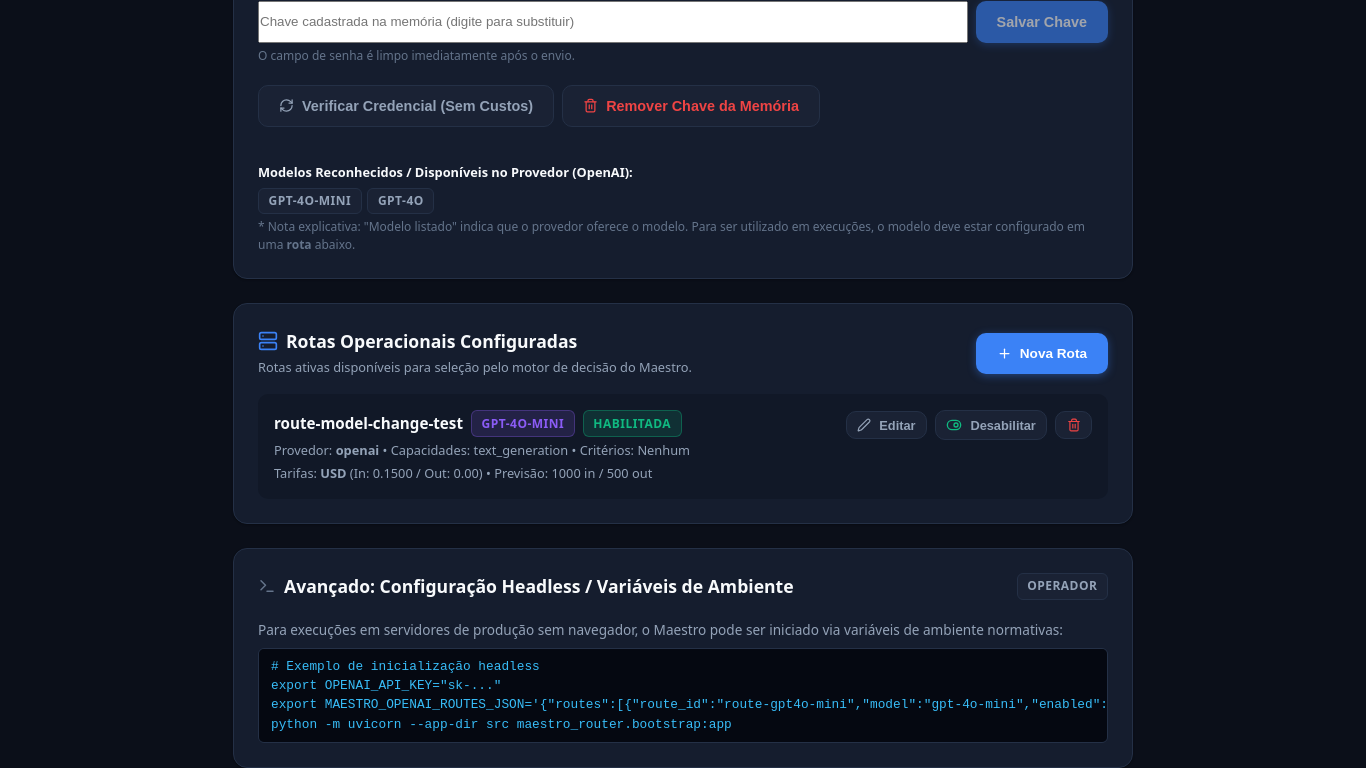
Test: ProvidersView component › ao trocar o modelo de uma rota, desmarca a confirmação de identidade exata do modelo anterior (R1)
(page scrolled)
Step 1. Click the button with test id "edit-route-route-model-change-test" → [886, 425], box top-left (846, 411), bottom-right (927, 439)
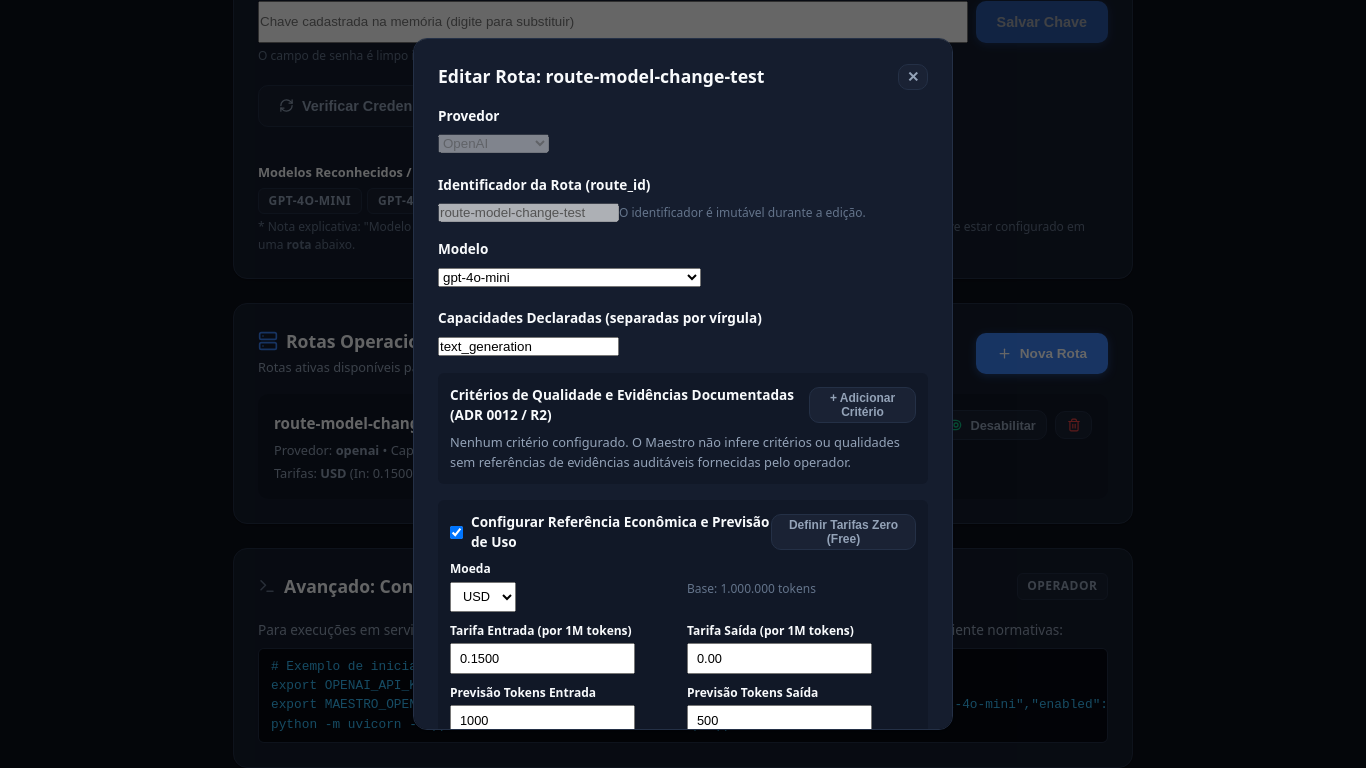
Note: Troca o modelo no select
Step 2. Select "gpt-4o" in the dropdown with test id "route-model-select" → [570, 277], box top-left (438, 268), bottom-right (701, 287)
(page scrolled)
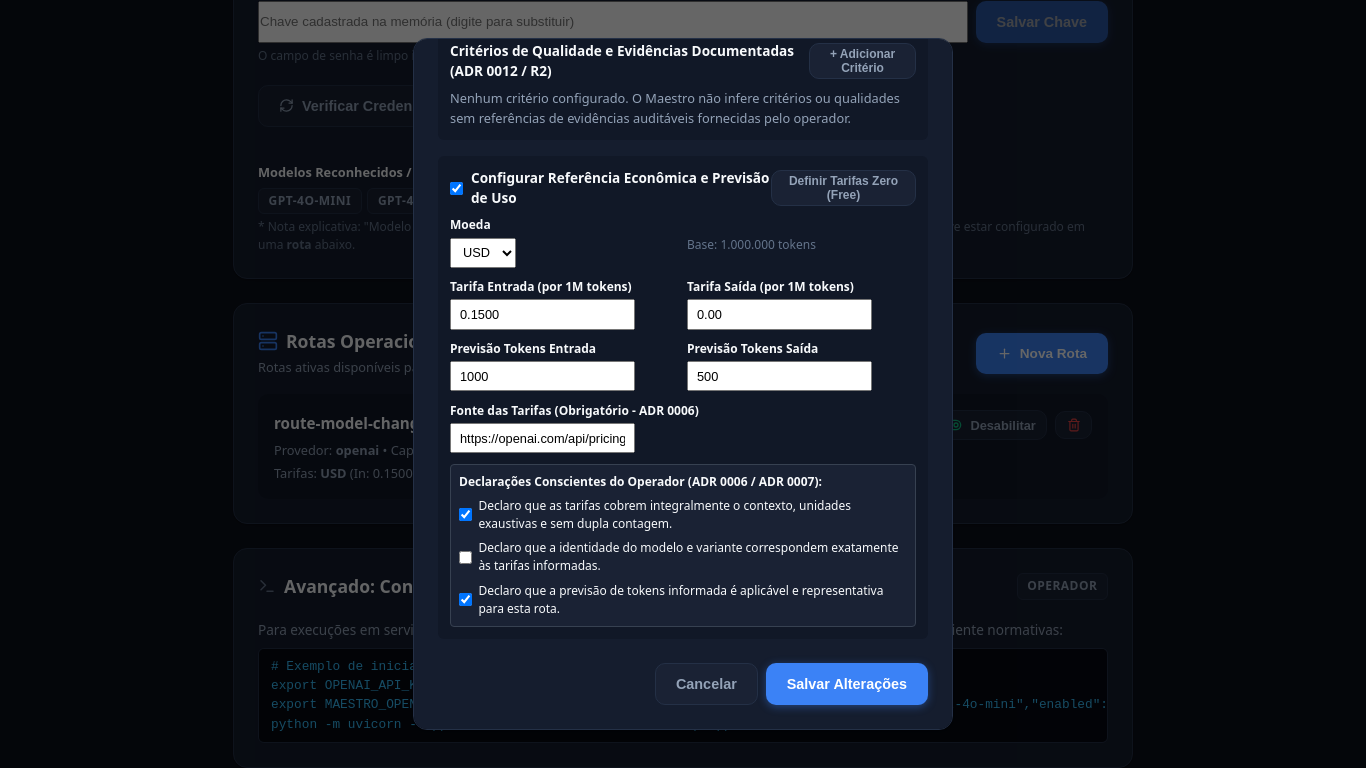
Check: the checkbox with test id "decl-model-exact" is not checked, box top-left (459, 551), bottom-right (472, 564)
